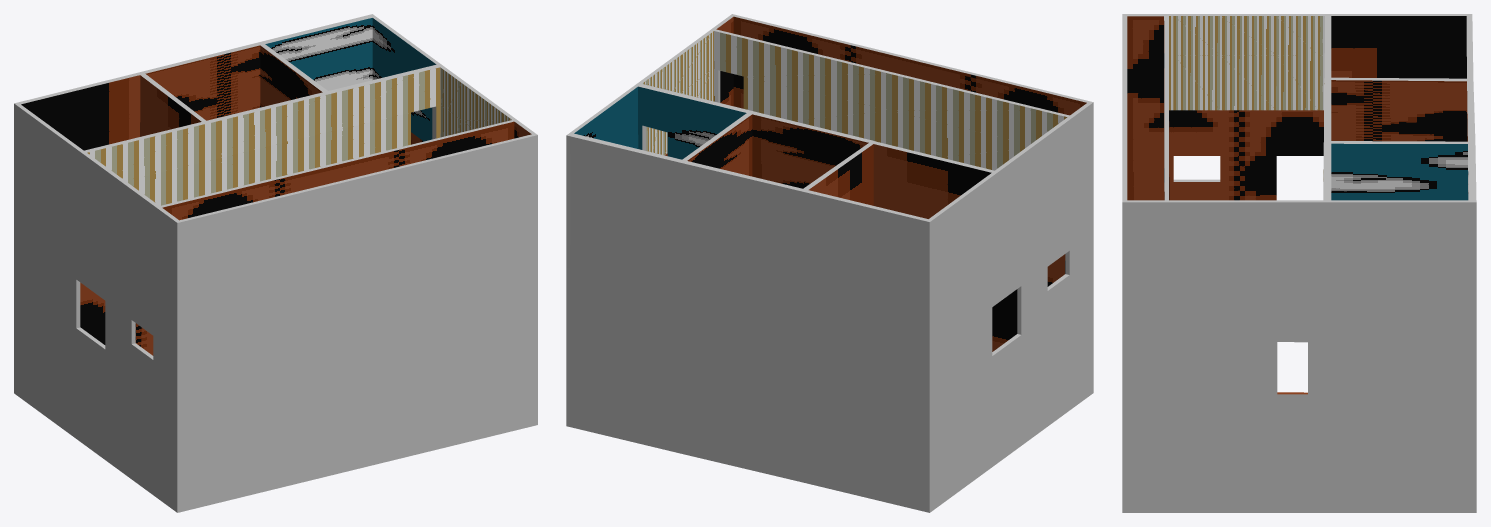
File: Door_Frame.obj
3 views of the same model, side by side, from view 1: azimuth 30°, elevation 25°; view 2: azimuth 150°, elevation 25°; view 3: azimuth 270°, elevation 25° (orthographic). The views are drawn at different scales.
Size of the model in its own units: 33.73 by 25.93 by 26.81.
